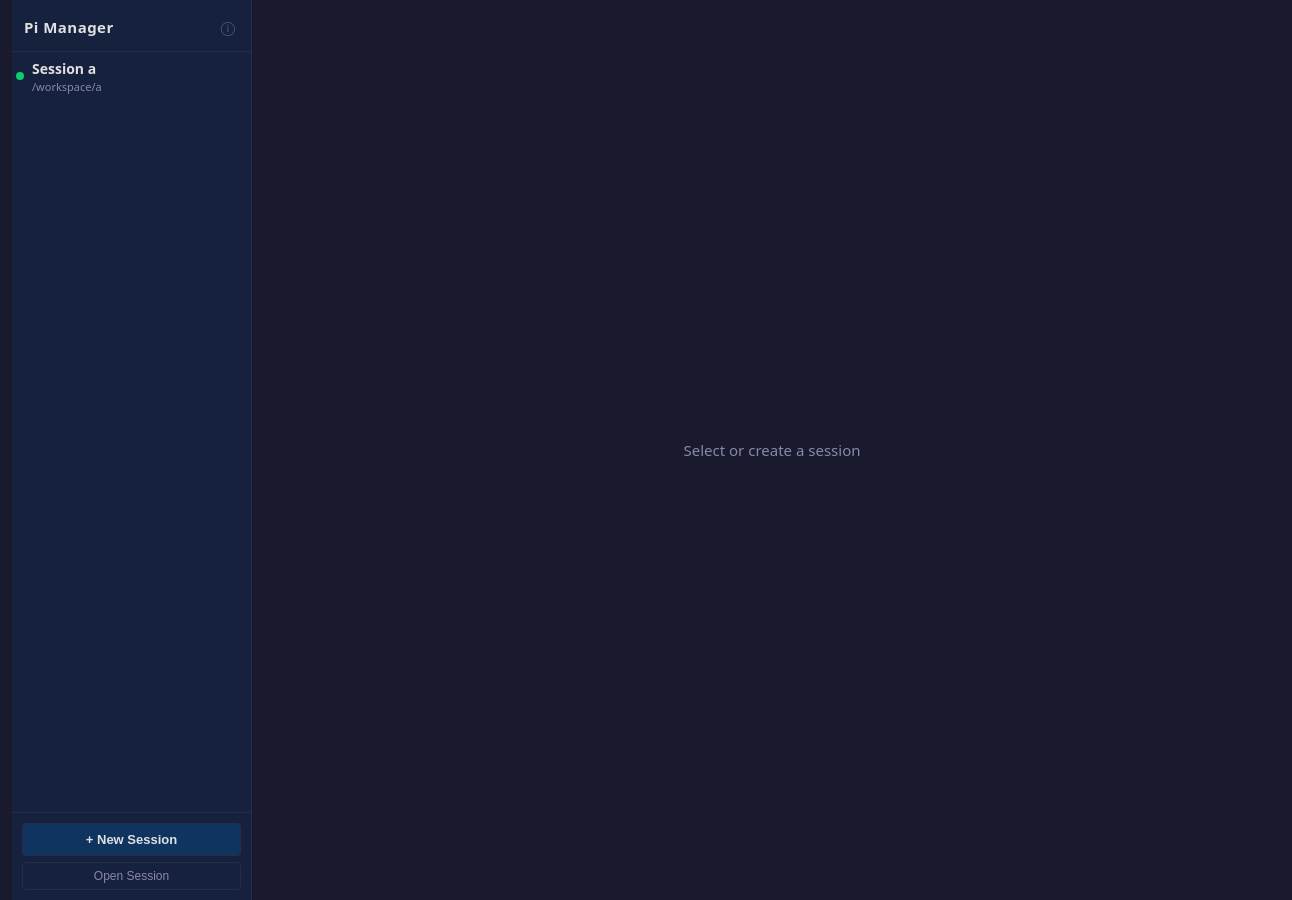
App › closes context menu on overlay click
Check: the text "Session a" is shown, box [32,58,96,78]
Right-click the button "Session a /workspace/a" at (136, 76), box [16,58,255,95]
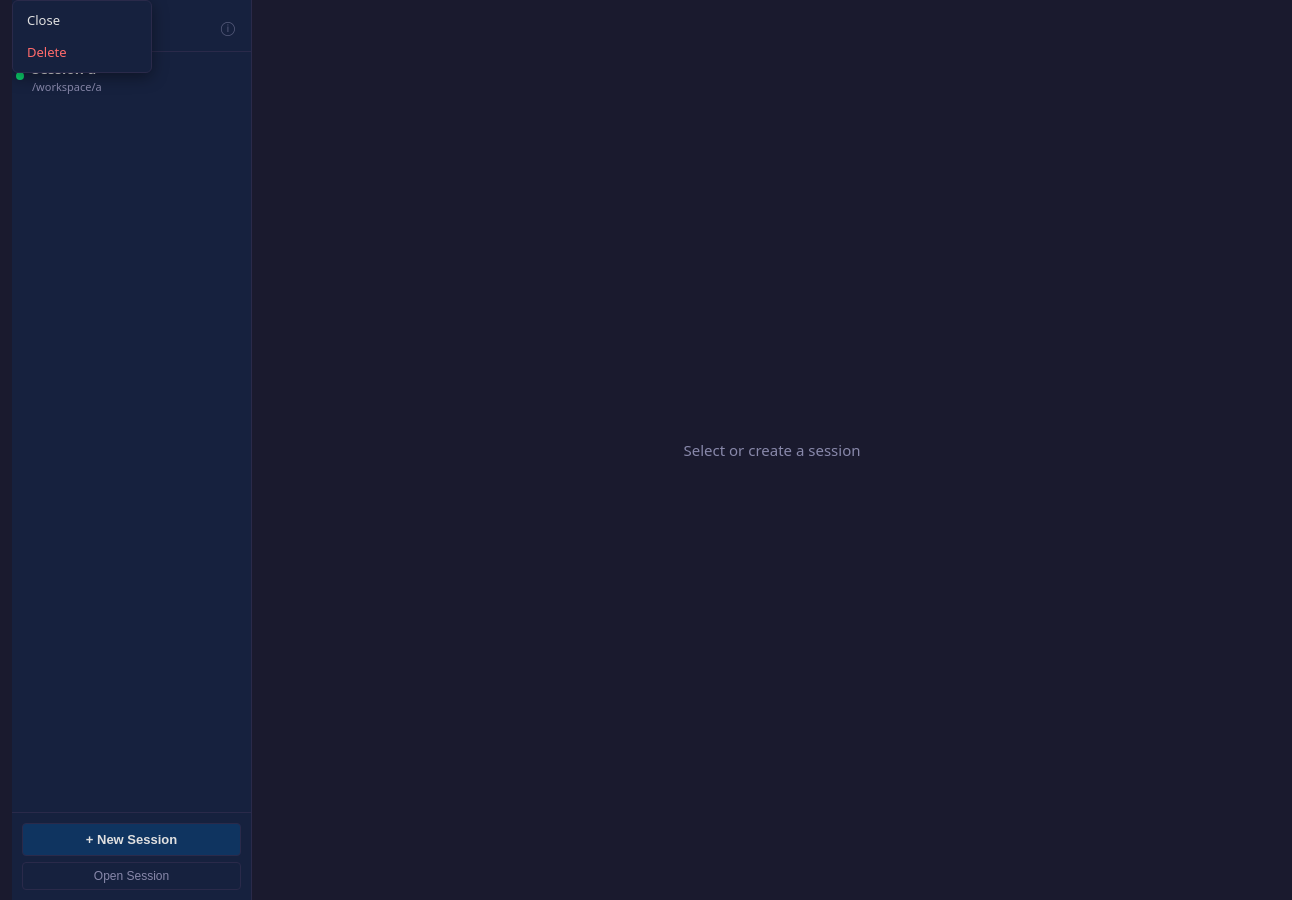
Check: the button "Close" is shown, box [13,5,151,36]
Click the element with test id "context-menu-overlay" at (652, 450), box [12,0,1291,899]
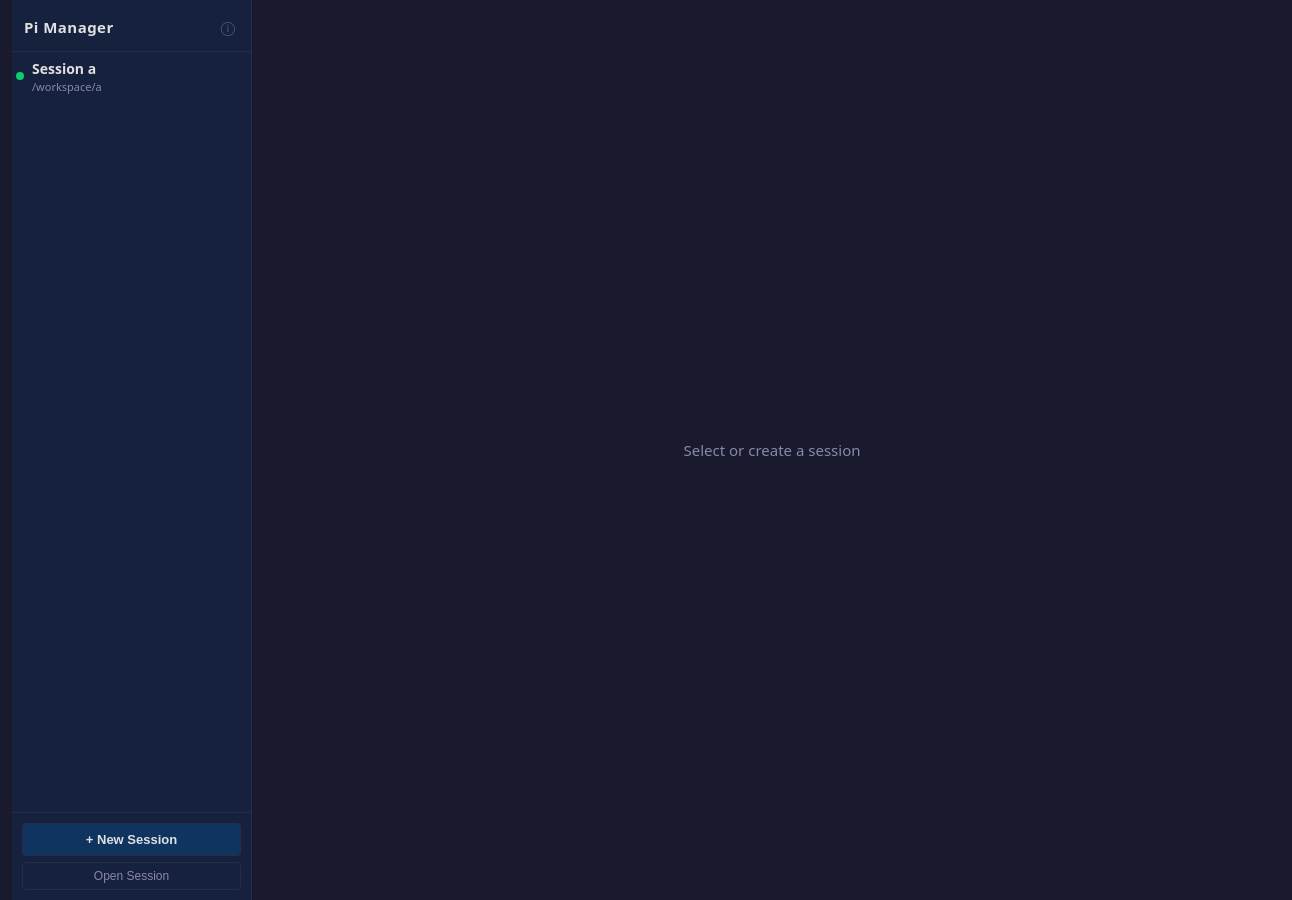
Check: the button "Close" is gone
